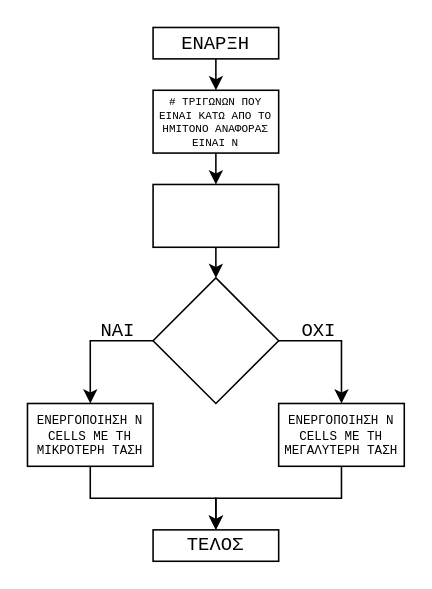
Some shapes in this 432 by 589 pixel diagram are drawn without their labels. The shapes that lost their labels are listed below. From the top down, each one's centre as x and y in pixels, then its label:
(x=215, y=215): ΜΕΤΡΗΣΗ ΤΑΣΕΩΝ ΠΥΚΝΩΤΩΝ
(x=215, y=339): ΦΟΡΑ ΡΕΥΜΑΤΟΣ ΘΕΤΙΚΗ
